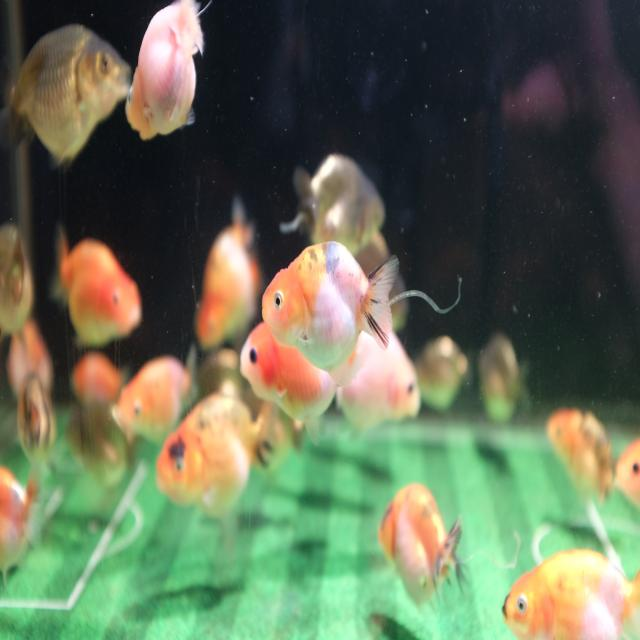Goldfish: (262, 239, 401, 377), (7, 22, 132, 170), (155, 392, 277, 524), (502, 547, 640, 639), (125, 0, 212, 141), (49, 219, 142, 348), (377, 482, 466, 610), (291, 153, 386, 266), (193, 200, 257, 352), (336, 328, 423, 430), (114, 352, 196, 452), (546, 406, 614, 504), (477, 329, 532, 431)
